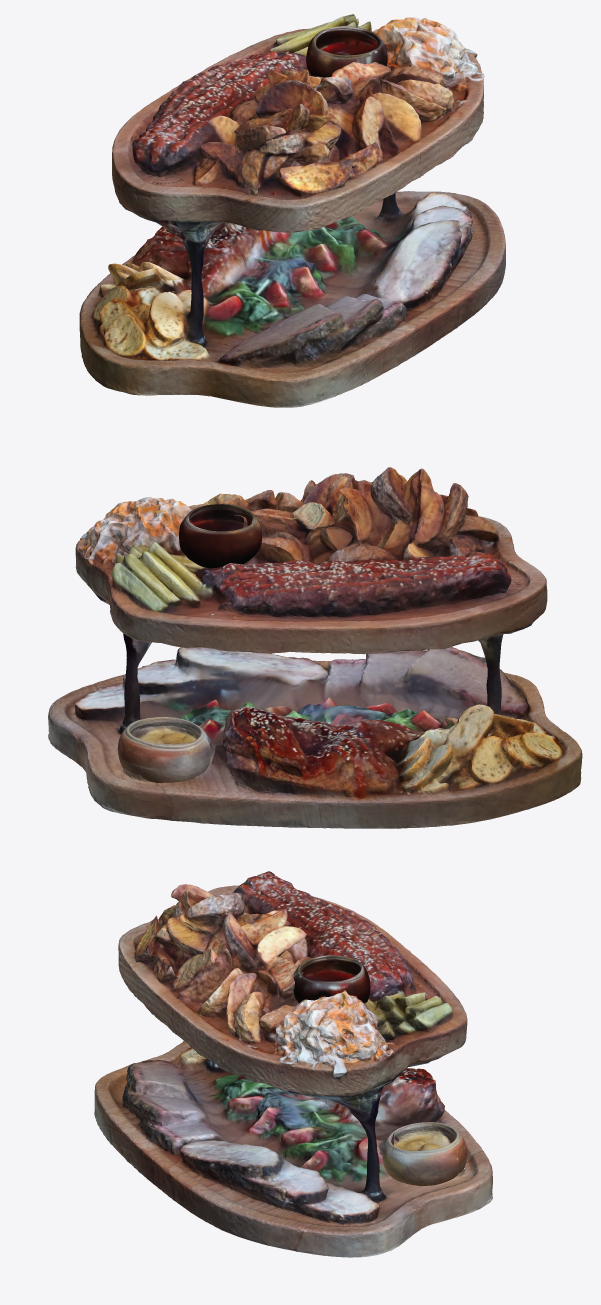
File: set.meet.jadid.glb
3 renders of one model, top to bottom at view 1: azimuth 30°, elevation 25°; view 2: azimuth 150°, elevation 25°; view 3: azimuth 270°, elevation 25°, orthographic. The views are drawn at different scales.
Parts seen in each view (by area): view 1: object 1, world; view 2: object 1, world (×2); view 3: object 1, world (×2).
Part boxes in pixels (box(x1,y1,x2,y2)): object 1: box(79, 14, 505, 407); world: box(306, 26, 387, 77); object 1: box(48, 467, 582, 828); world (×2): box(117, 504, 261, 782); object 1: box(94, 871, 492, 1257); world (×2): box(293, 955, 467, 1185).
Size of the model in its own units: 0.5498 by 0.2403 by 0.5077.
Materials: 4 (3 with a texture image).
